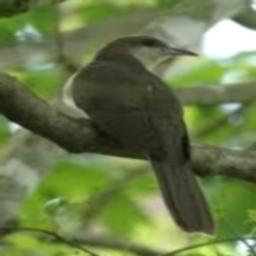Cuckoo: (63, 35, 215, 236)
